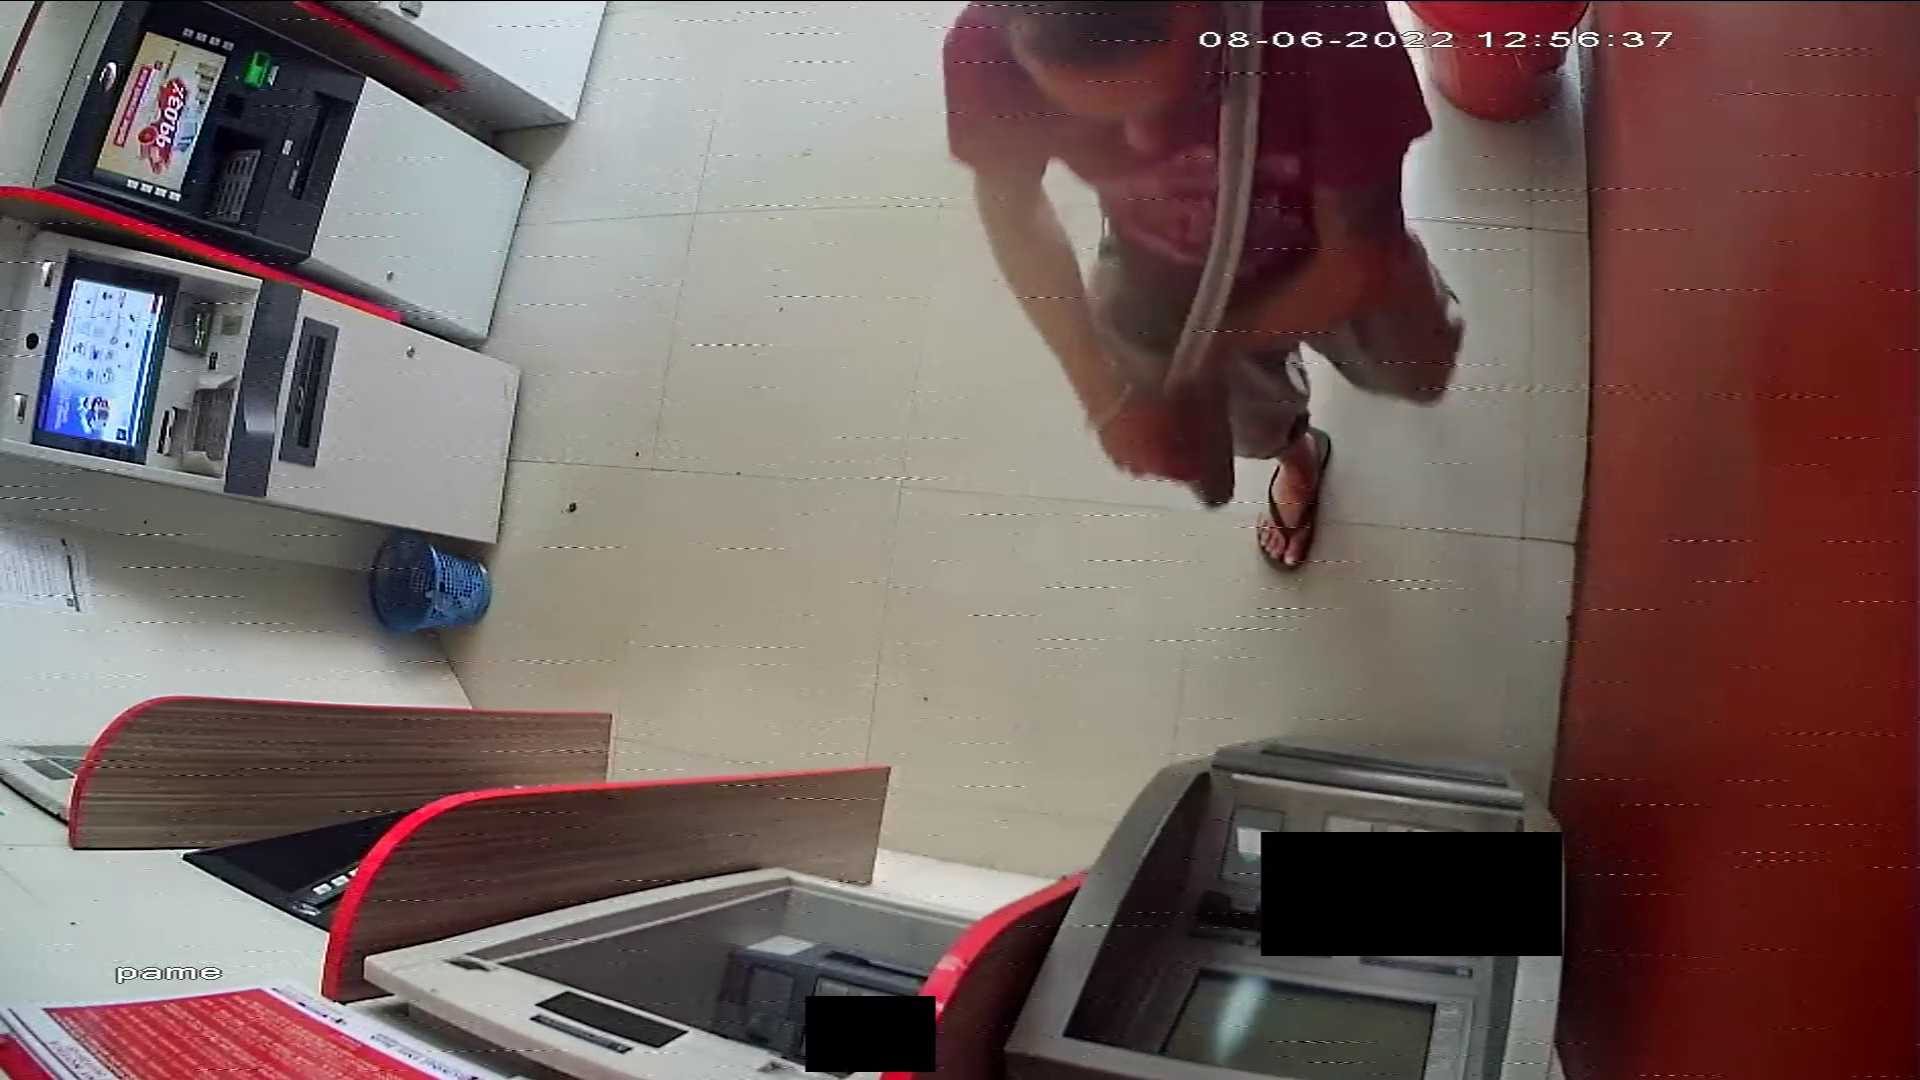person: (941, 1, 1492, 573)
